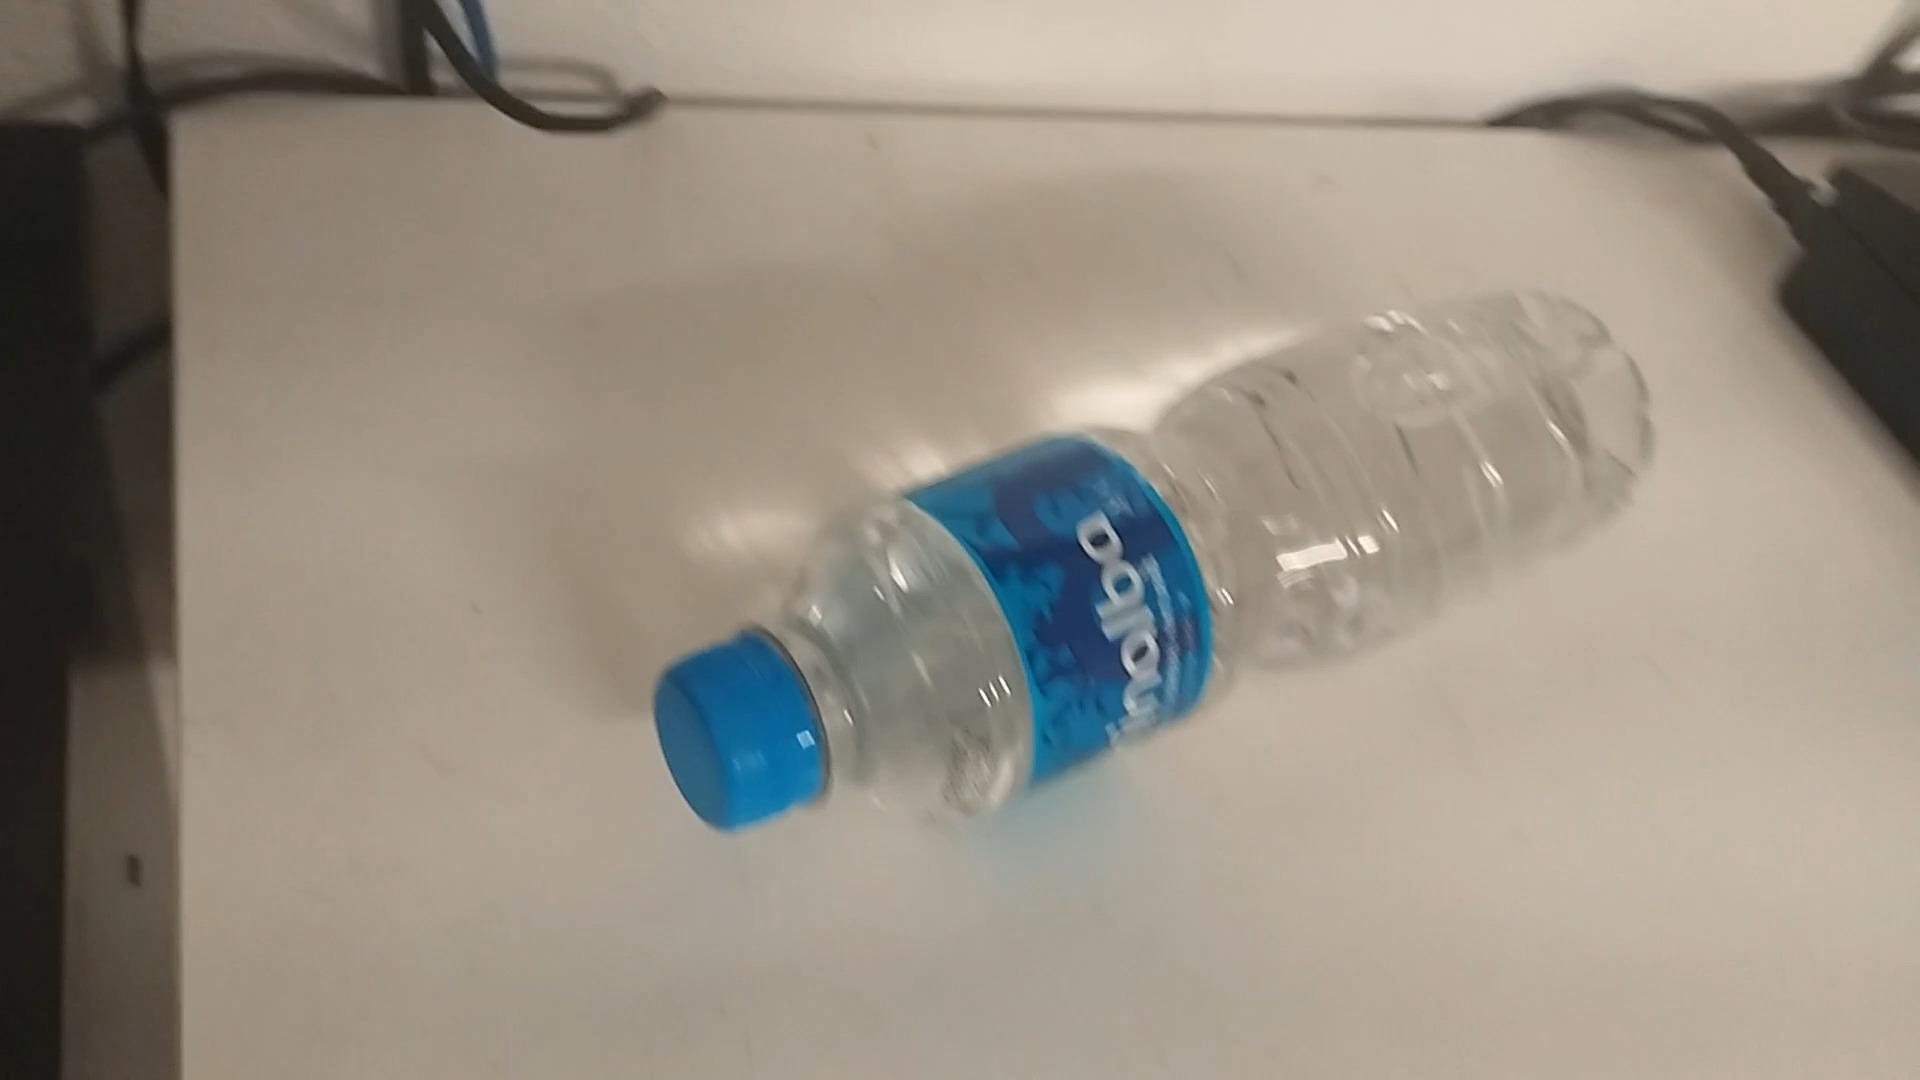agua: (663, 291, 1635, 836)
